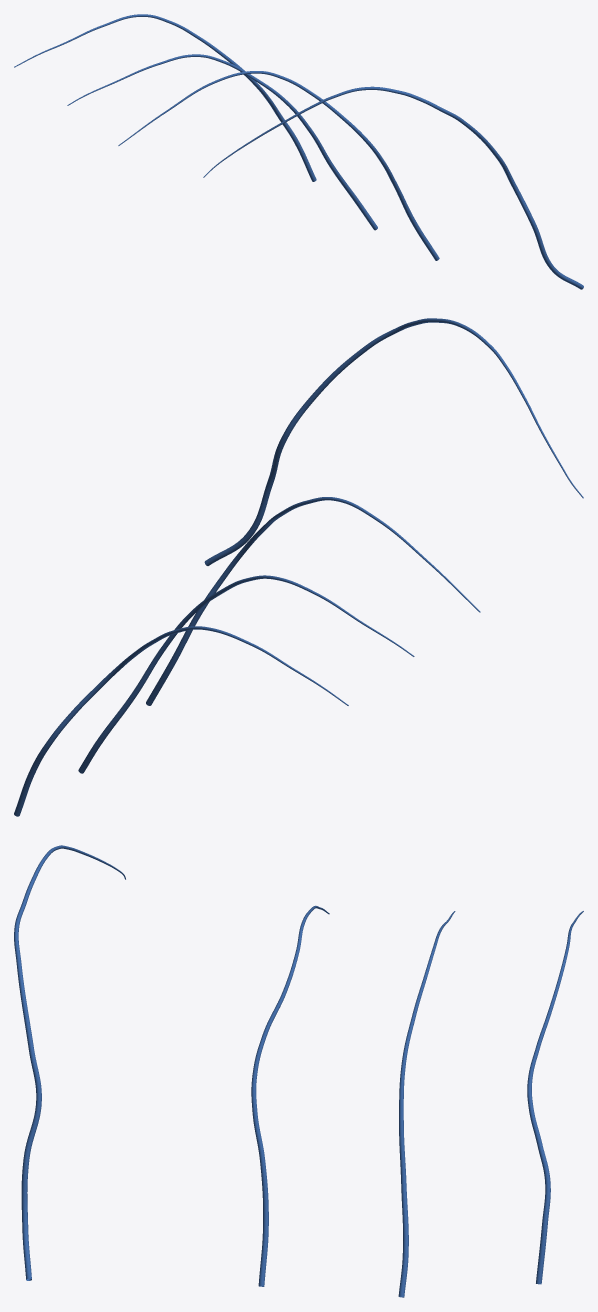
The picture shows the model from 3 angles, top to bottom: view 1: azimuth 30°, elevation 25°; view 2: azimuth 150°, elevation 25°; view 3: azimuth 270°, elevation 25°; orthographic projection. The views are drawn at different scales.
Visible parts, largest first — view 1: 右侧腰静脉; view 2: 右侧腰静脉; view 3: 右侧腰静脉.
Boxes of the visible parts, <box> form: 右侧腰静脉: <box>14,14,583,289</box>; 右侧腰静脉: <box>14,318,583,816</box>; 右侧腰静脉: <box>14,845,583,1297</box>.
Size of the model in its own units: 0.1179 by 0.0947 by 0.1398.
